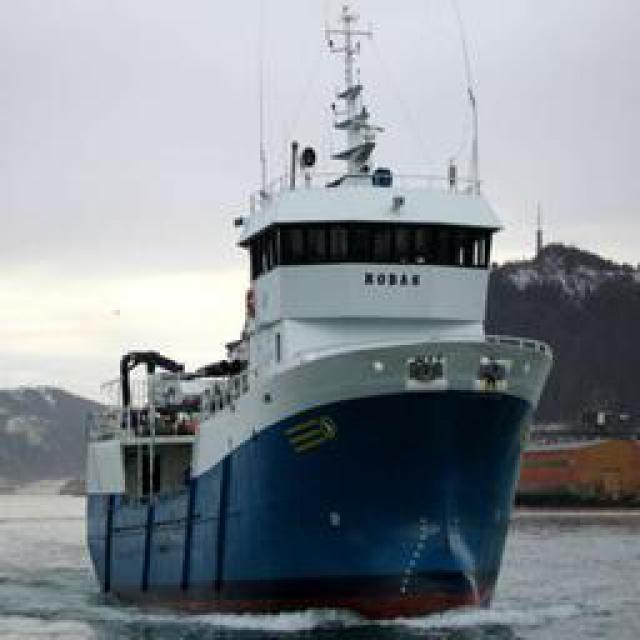Ship: (86, 53, 546, 611)
